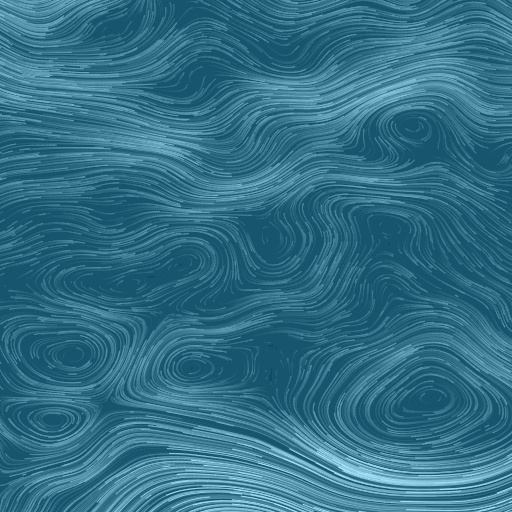eddy: (45, 233, 222, 313), (364, 345, 494, 447), (13, 325, 134, 390), (155, 341, 255, 392), (3, 400, 98, 446), (389, 109, 437, 146)
